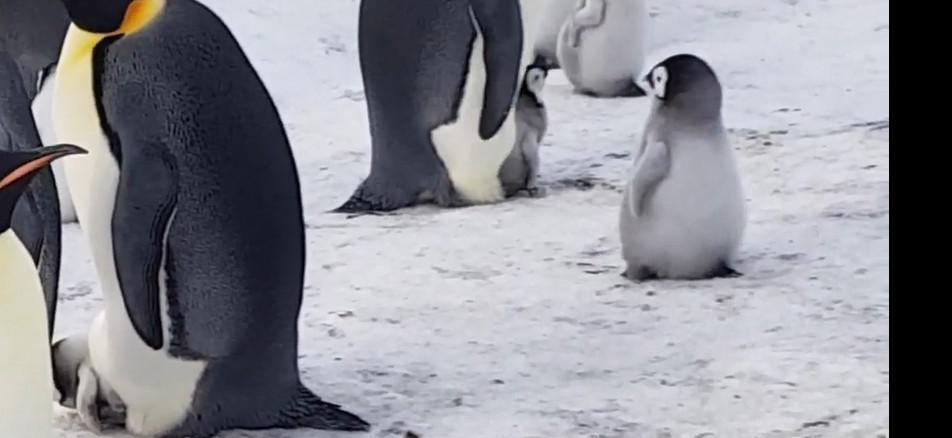Emperor Penguin: (62, 0, 178, 356), (0, 132, 94, 438), (0, 0, 70, 320)
